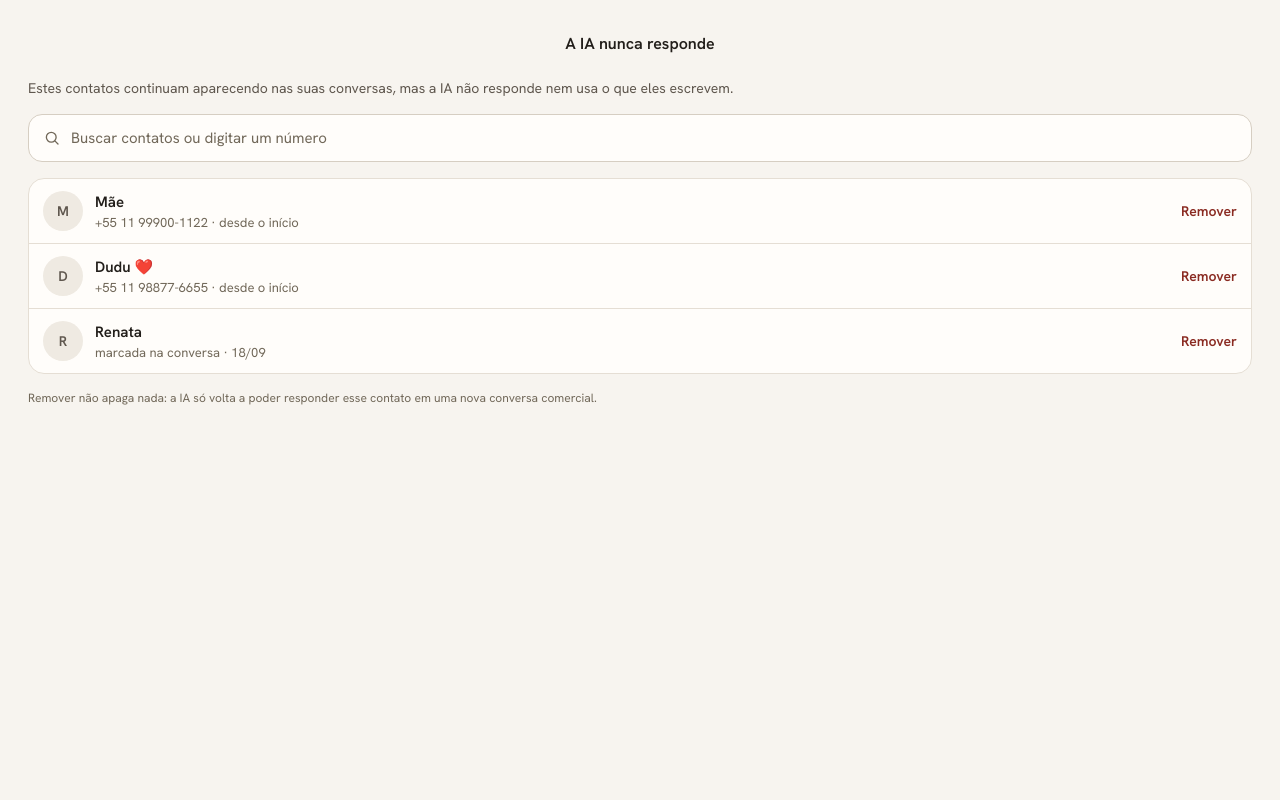
Test: Goal140 a busca › Adicionar com VALIDATION_ERROR pede o formato
The width and height of the screenshot is (1280, 800).
Expected: the text "Mãe" is shown, [95, 192, 124, 212]
Type "11 96666-5555" into the search field labelled "Buscar contatos ou digitar um número" at (654, 138), box [71, 115, 1237, 161]
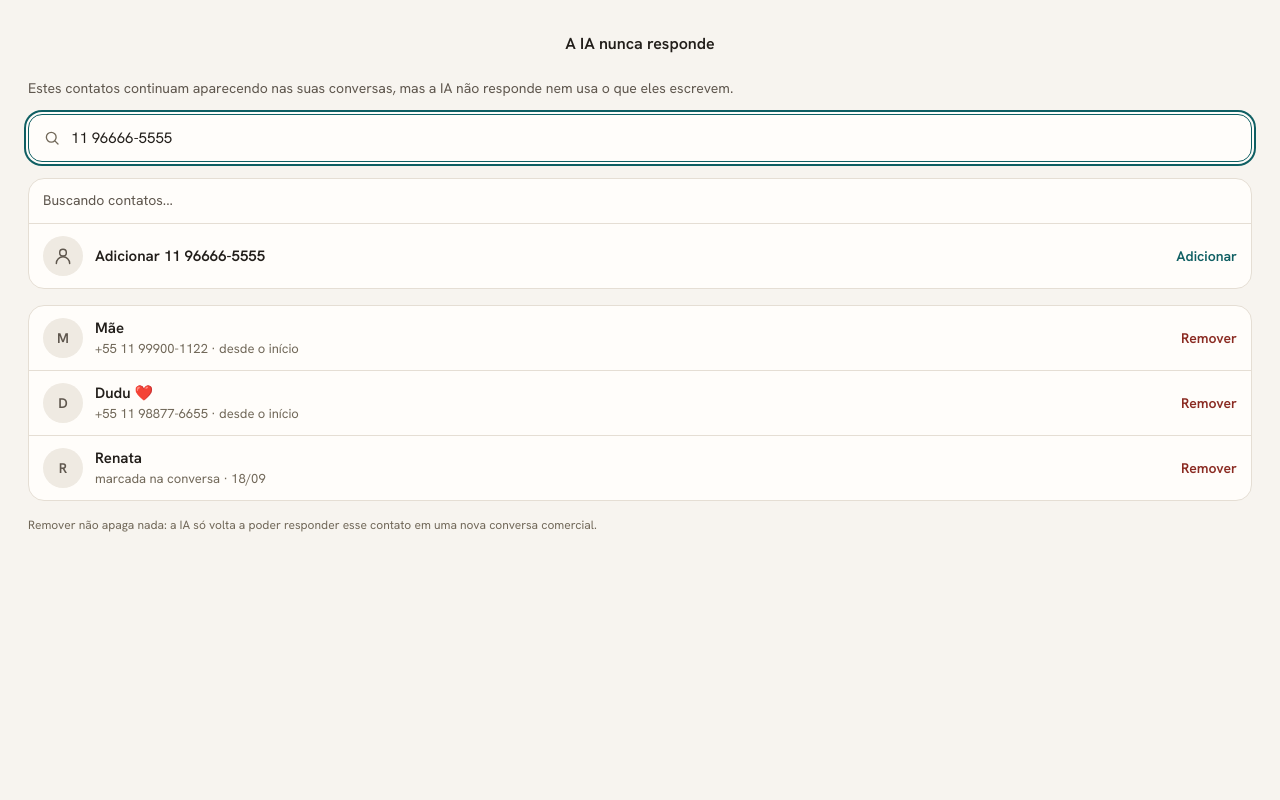
Click the button "Adicionar" at (1207, 256), box [1168, 236, 1245, 276]
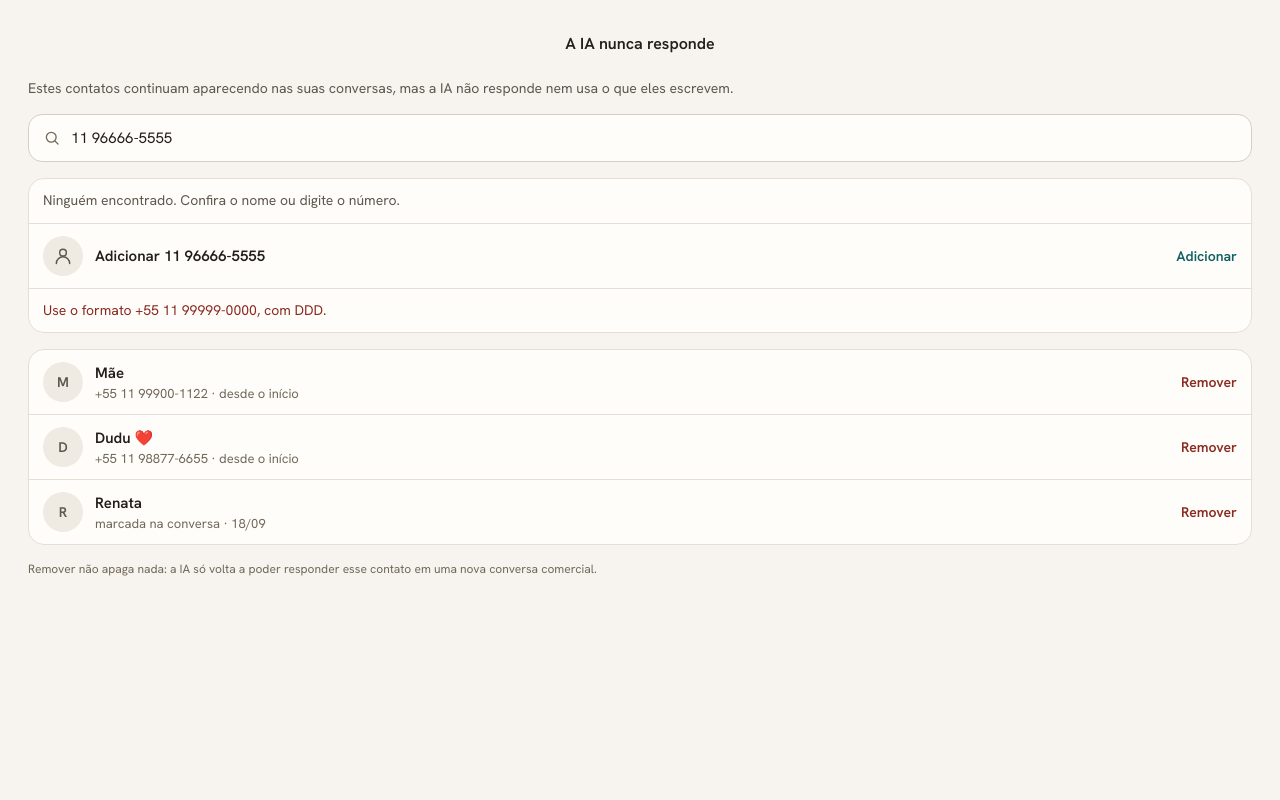
Expected: the message reads "Use o formato +55 11 99999-0000, com DDD.", [43, 301, 326, 319]
